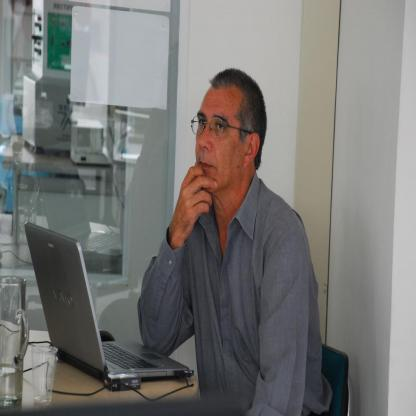board: (25, 222, 192, 380)
